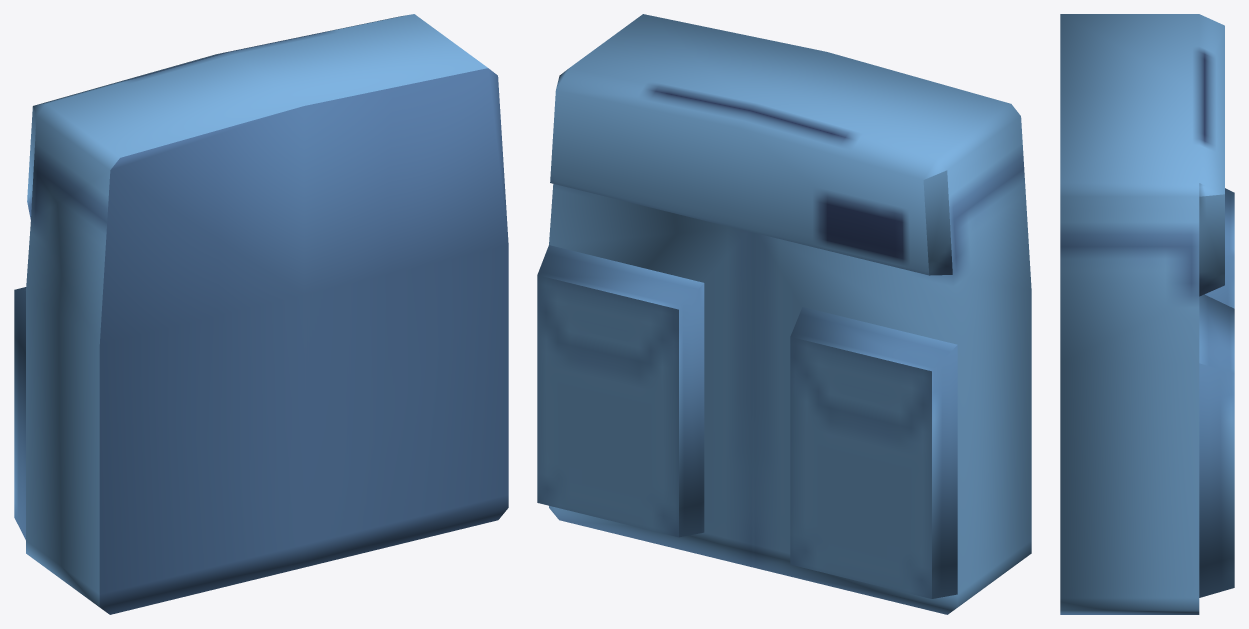
File: back_acc_03.FBX
3 views of the same model, side by side, from view 1: azimuth 30°, elevation 25°; view 2: azimuth 150°, elevation 25°; view 3: azimuth 270°, elevation 25° (orthographic). The views are drawn at different scales.
Parts seen in each view (by area): view 1: back_acc_03; view 2: back_acc_03; view 3: back_acc_03.
Boxes of the visible parts, bbox=[...] form: back_acc_03: bbox=[14, 14, 508, 614]; back_acc_03: bbox=[537, 14, 1031, 614]; back_acc_03: bbox=[1060, 14, 1234, 614].
Size of the model in its own units: 16.57 by 17.88 by 6.5.
